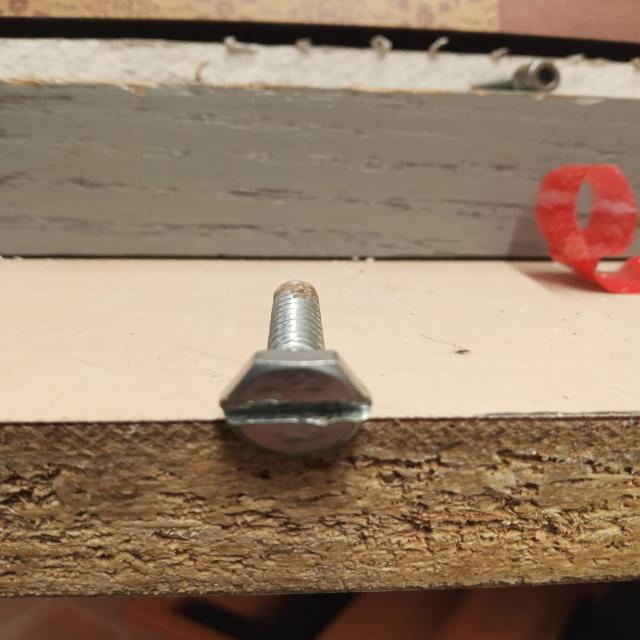duz: (216, 350, 375, 458)
